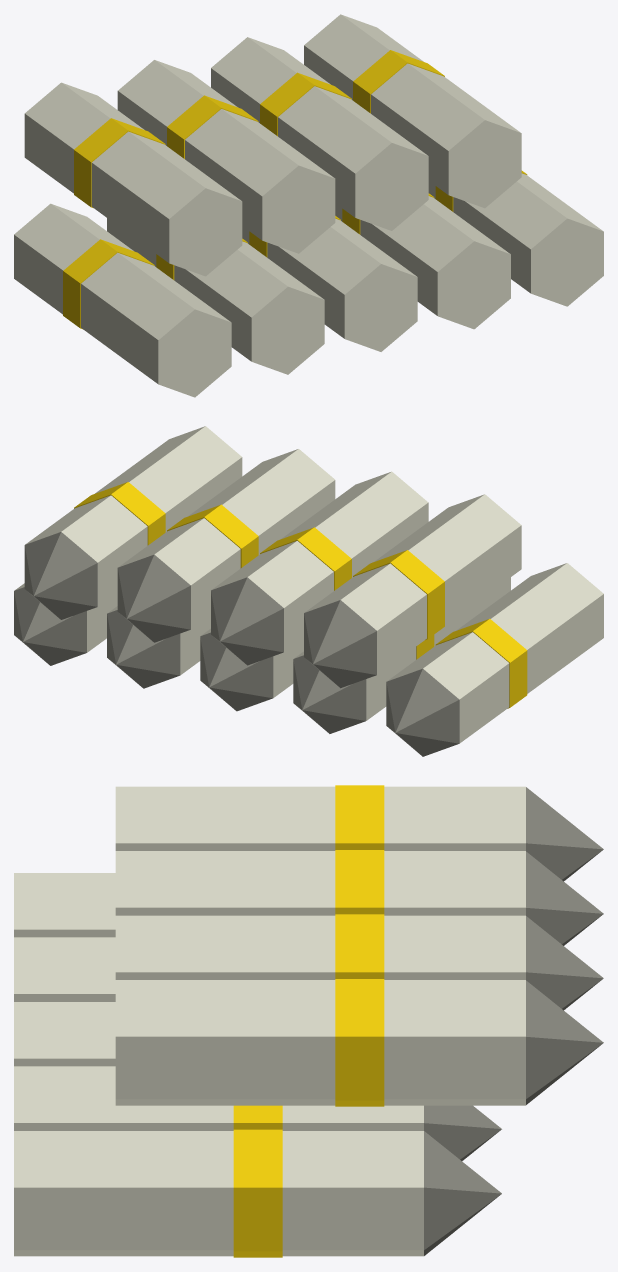
The model's file is ce_ammo_chcells_reg_b.obj.
3 views of the same model, one above another, from view 1: azimuth 30°, elevation 25°; view 2: azimuth 150°, elevation 25°; view 3: azimuth 270°, elevation 25° (orthographic). The views are drawn at different scales.
Visible parts, largest first — view 1: ce_ammo_chcells_reg_b_20, ce_ammo_chcells_reg_b_0, ce_ammo_chcells_reg_b_24, ce_ammo_chcells_reg_b_32, ce_ammo_chcells_reg_b_28, ce_ammo_chcells_reg_b_8, ce_ammo_chcells_reg_b_4, ce_ammo_chcells_reg_b_12, ce_ammo_chcells_reg_b_16, ce_ammo_chcells_reg_b_22, ce_ammo_chcells_reg_b_2, ce_ammo_chcells_reg_b_26 (+8 smaller); view 2: ce_ammo_chcells_reg_b_0, ce_ammo_chcells_reg_b_20, ce_ammo_chcells_reg_b_28, ce_ammo_chcells_reg_b_32, ce_ammo_chcells_reg_b_24, ce_ammo_chcells_reg_b_2, ce_ammo_chcells_reg_b_22, ce_ammo_chcells_reg_b_34, ce_ammo_chcells_reg_b_30, ce_ammo_chcells_reg_b_26, ce_ammo_chcells_reg_b_3, ce_ammo_chcells_reg_b_31 (+17 smaller); view 3: ce_ammo_chcells_reg_b_32, ce_ammo_chcells_reg_b_16, ce_ammo_chcells_reg_b_34, ce_ammo_chcells_reg_b_18, ce_ammo_chcells_reg_b_24, ce_ammo_chcells_reg_b_20, ce_ammo_chcells_reg_b_28, ce_ammo_chcells_reg_b_12, ce_ammo_chcells_reg_b_22, ce_ammo_chcells_reg_b_26, ce_ammo_chcells_reg_b_30, ce_ammo_chcells_reg_b_0 (+15 smaller).
Part boxes in pixels (x1,y1,x2,y2): ce_ammo_chcells_reg_b_20: [91, 131, 242, 276]; ce_ammo_chcells_reg_b_0: [81, 252, 231, 397]; ce_ammo_chcells_reg_b_24: [185, 109, 335, 253]; ce_ammo_chcells_reg_b_32: [371, 63, 521, 208]; ce_ammo_chcells_reg_b_28: [278, 86, 428, 230]; ce_ammo_chcells_reg_b_8: [267, 218, 417, 351]; ce_ammo_chcells_reg_b_4: [174, 241, 324, 374]; ce_ammo_chcells_reg_b_12: [360, 196, 510, 329]; ce_ammo_chcells_reg_b_16: [453, 173, 603, 306]; ce_ammo_chcells_reg_b_22: [24, 82, 144, 193]; ce_ammo_chcells_reg_b_2: [14, 203, 133, 314]; ce_ammo_chcells_reg_b_26: [117, 60, 237, 145]; ce_ammo_chcells_reg_b_0: [456, 563, 603, 693]; ce_ammo_chcells_reg_b_20: [374, 494, 521, 624]; ce_ammo_chcells_reg_b_28: [188, 449, 335, 554]; ce_ammo_chcells_reg_b_32: [95, 426, 242, 532]; ce_ammo_chcells_reg_b_24: [281, 471, 428, 577]; ce_ammo_chcells_reg_b_2: [387, 632, 509, 743]; ce_ammo_chcells_reg_b_22: [305, 563, 426, 674]; ce_ammo_chcells_reg_b_34: [25, 495, 147, 606]; ce_ammo_chcells_reg_b_30: [118, 518, 240, 629]; ce_ammo_chcells_reg_b_26: [212, 541, 333, 651]; ce_ammo_chcells_reg_b_3: [386, 668, 459, 756]; ce_ammo_chcells_reg_b_31: [117, 554, 190, 642]; ce_ammo_chcells_reg_b_32: [115, 980, 335, 1105]; ce_ammo_chcells_reg_b_16: [14, 1131, 233, 1256]; ce_ammo_chcells_reg_b_34: [384, 980, 525, 1105]; ce_ammo_chcells_reg_b_18: [282, 1131, 423, 1256]; ce_ammo_chcells_reg_b_24: [115, 851, 335, 915]; ce_ammo_chcells_reg_b_20: [115, 786, 335, 850]; ce_ammo_chcells_reg_b_28: [115, 915, 335, 979]; ce_ammo_chcells_reg_b_12: [14, 1066, 233, 1130]; ce_ammo_chcells_reg_b_22: [384, 786, 525, 850]; ce_ammo_chcells_reg_b_26: [384, 851, 525, 915]; ce_ammo_chcells_reg_b_30: [384, 915, 525, 979]; ce_ammo_chcells_reg_b_0: [14, 873, 115, 937].
Bounding box in the file's own units: 0.7202 × 0.2674 × 0.58.
